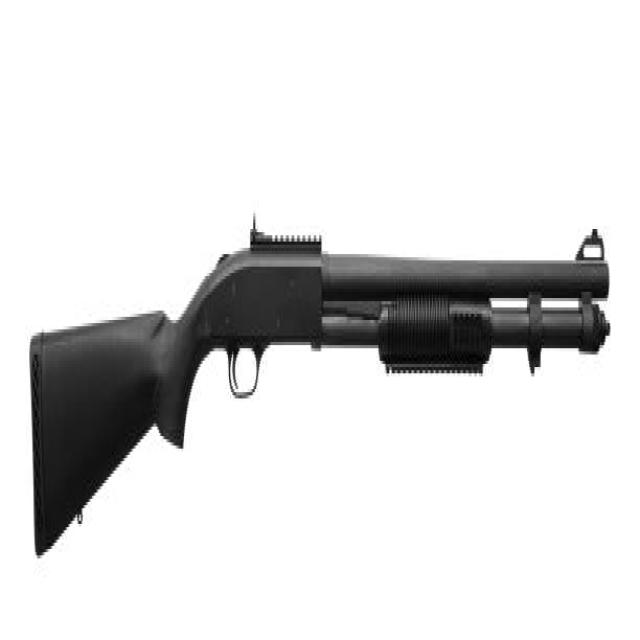rifle: (23, 211, 613, 573)
